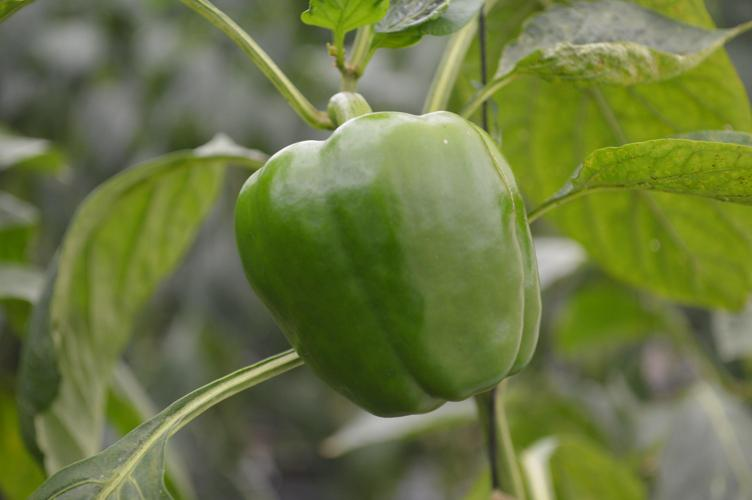BellPepper: (214, 107, 544, 403)
